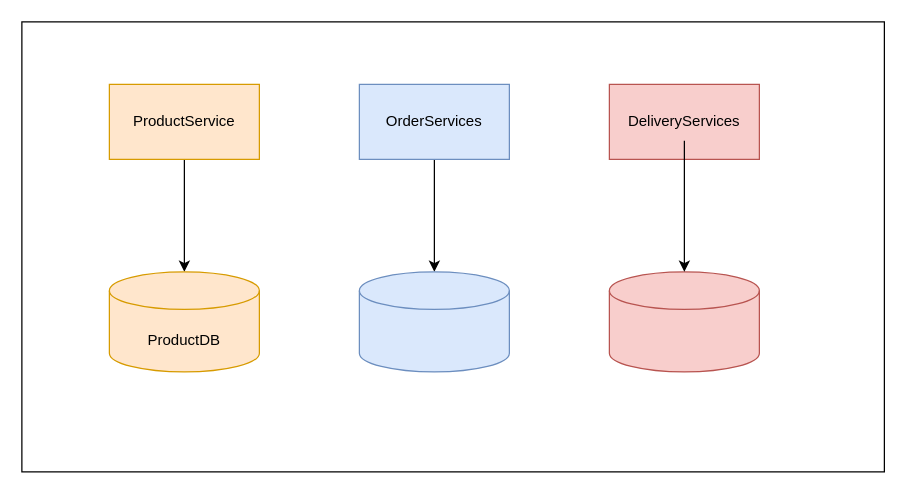
This 906x494 diagram has some shape labels left out. The shapes that lost their labels are listed below. From the top down, each one's centre as x and y in pixels, then its label:
pixel 433 321: OrderDB
pixel 683 321: DeliveryDB
